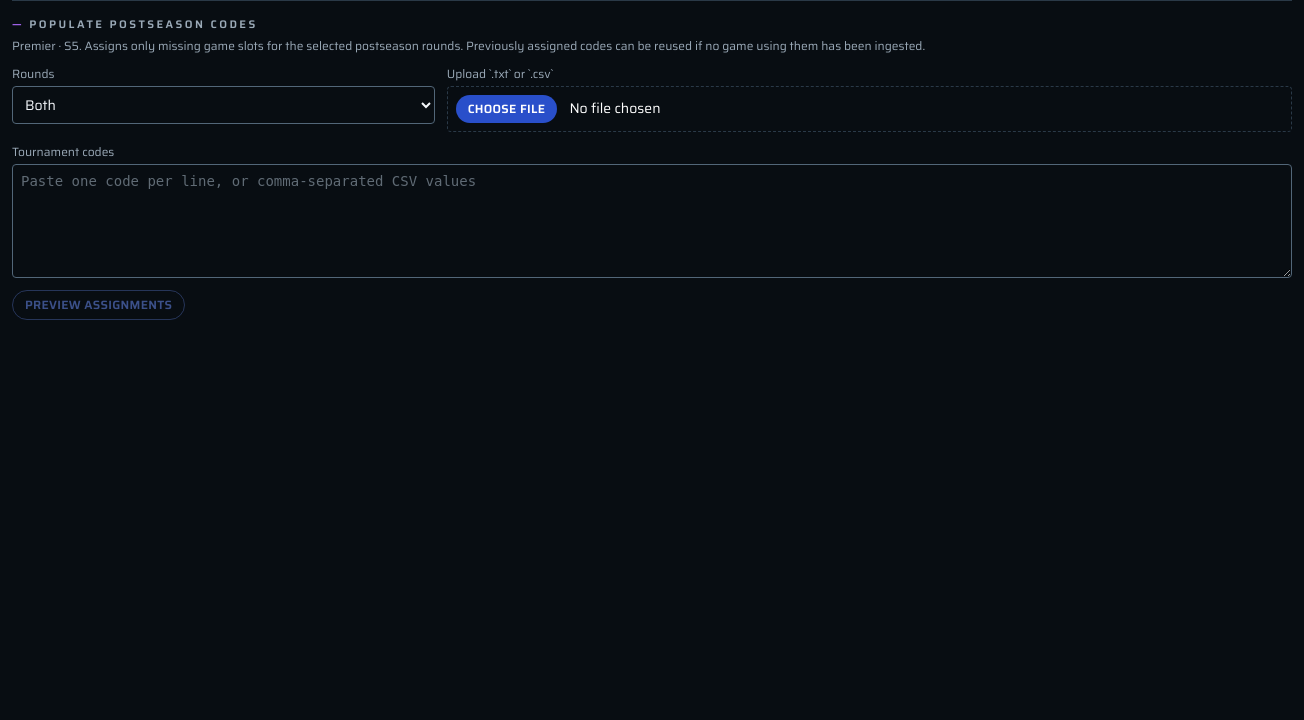
Scenario: AdminPostseasonCodeImporter › previews missing slots and saves only after review
Type "R1-CODE, EXTRA" into the text box labelled "Tournament codes" at x=652, y=220, box x1=12 y1=164 x2=1292 y2=278
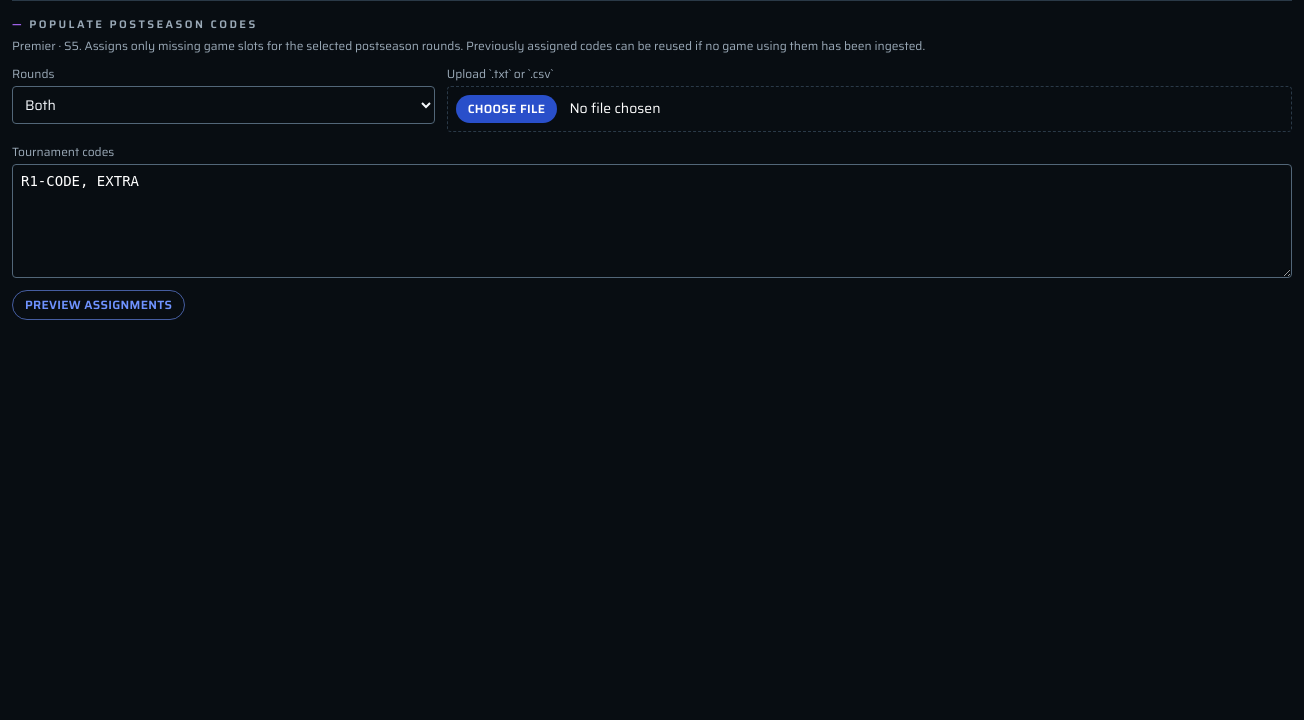
Click the button "Preview assignments" at x=99, y=304, box x1=12 y1=290 x2=185 y2=320
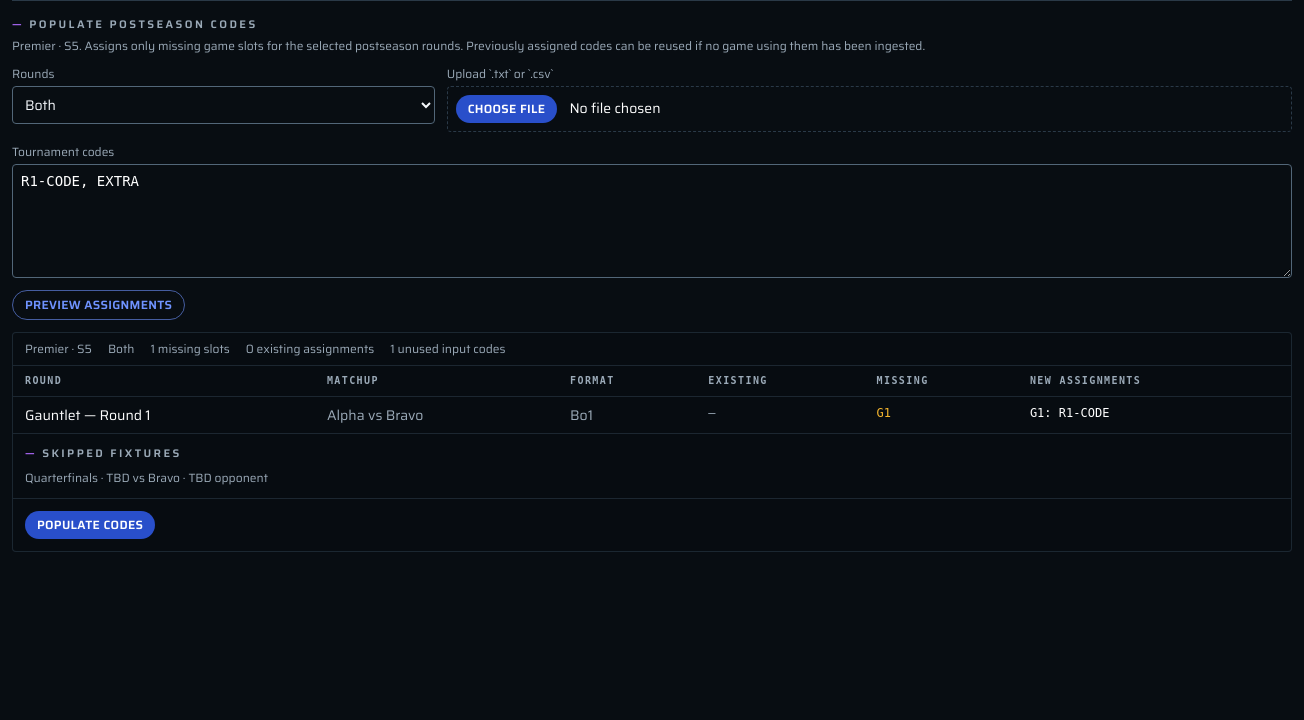
Result: the text "Gauntlet — Round 1" is shown at x1=13 y1=396 x2=315 y2=433
Result: the text "Bo1" is shown at x1=558 y1=396 x2=696 y2=433
Result: the text "G1: R1-CODE" is shown at x1=1018 y1=396 x2=1291 y2=433
Click the button "Populate codes" at x=90, y=525, box x1=25 y1=511 x2=155 y2=539
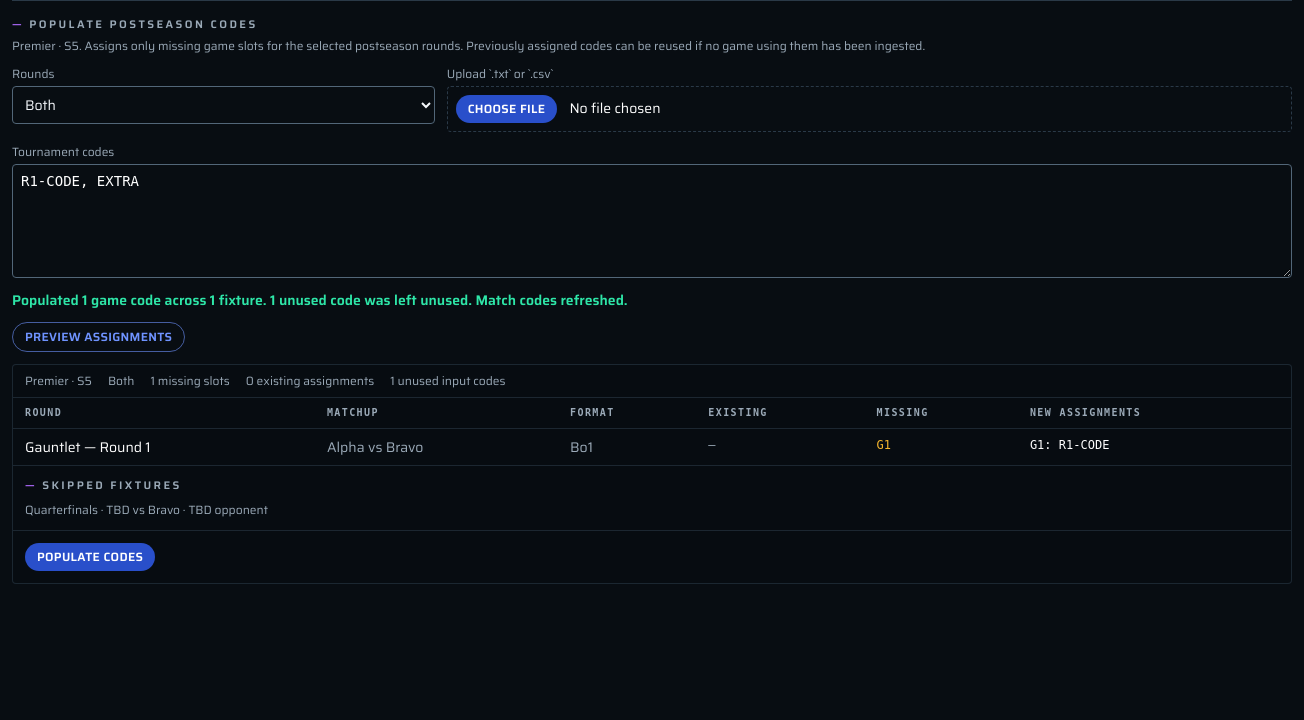
Result: the text "Populated 1 game code across 1 fixture" is shown at x1=12 y1=288 x2=628 y2=310
